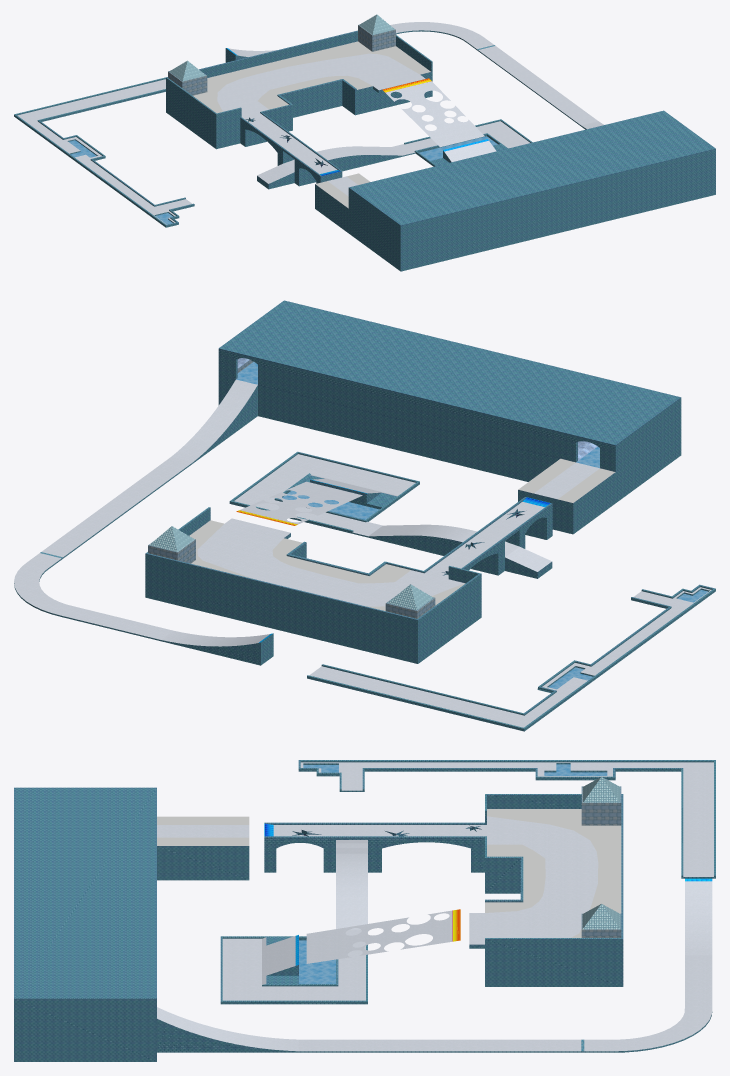
3 renders of one model, top to bottom at view 1: azimuth 30°, elevation 25°; view 2: azimuth 150°, elevation 25°; view 3: azimuth 270°, elevation 25°, orthographic. The views are drawn at different scales.
Parts seen in each view (by area): view 1: Glacial_Bay_2k17_Main-mur1, Glacial_Bay_2k17_Main-route1, Glacial_Bay_2k17_Main-neigeoffroad, Glacial_Bay_2k17_Main-mur2, Glacial_Bay_2k17_Main-toit, Glacial_Bay_2k17_Main-water; view 2: Glacial_Bay_2k17_Main-mur1, Glacial_Bay_2k17_Main-route1, Glacial_Bay_2k17_Main-neigeoffroad, Glacial_Bay_2k17_Main-toit, Glacial_Bay_2k17_Main-water, Glacial_Bay_2k17_Main-mur2; view 3: Glacial_Bay_2k17_Main-mur1, Glacial_Bay_2k17_Main-route1, Glacial_Bay_2k17_Main-neigeoffroad, Glacial_Bay_2k17_Main-toit, Glacial_Bay_2k17_Main-water, Glacial_Bay_2k17_Main-mur2.
Boxes of the visible parts, x1,y1,x2,y2 form: Glacial_Bay_2k17_Main-mur1: (14,30,715,271); Glacial_Bay_2k17_Main-route1: (17,22,603,224); Glacial_Bay_2k17_Main-neigeoffroad: (193,41,430,208); Glacial_Bay_2k17_Main-mur2: (168,25,395,95); Glacial_Bay_2k17_Main-toit: (169,14,394,81); Glacial_Bay_2k17_Main-water: (69,136,497,224); Glacial_Bay_2k17_Main-mur1: (14,300,715,731); Glacial_Bay_2k17_Main-route1: (14,379,711,727); Glacial_Bay_2k17_Main-neigeoffroad: (189,458,615,610); Glacial_Bay_2k17_Main-toit: (149,526,433,610); Glacial_Bay_2k17_Main-water: (282,490,708,689); Glacial_Bay_2k17_Main-mur2: (148,360,435,618); Glacial_Bay_2k17_Main-mur1: (14,760,715,1061); Glacial_Bay_2k17_Main-route1: (157,762,713,1051); Glacial_Bay_2k17_Main-neigeoffroad: (157,809,621,937); Glacial_Bay_2k17_Main-toit: (582,777,620,929); Glacial_Bay_2k17_Main-water: (299,764,607,983); Glacial_Bay_2k17_Main-mur2: (581,786,621,937).
Size of what is drawn, in the model's own units: 89498 by 10403 by 88785.
13 materials, 13 textured.
